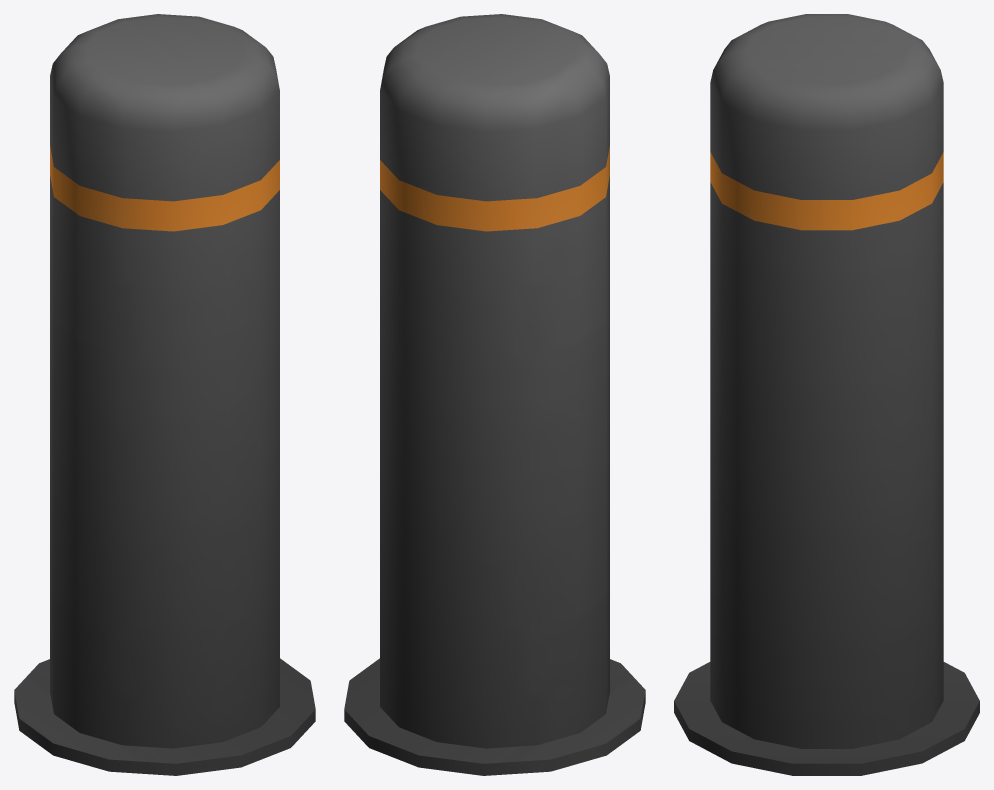
Rendered from bollard.glb.
The picture shows the model from 3 angles, left to right: view 1: azimuth 30°, elevation 25°; view 2: azimuth 150°, elevation 25°; view 3: azimuth 270°, elevation 25°; orthographic projection.
Parts seen in each view (by area): view 1: bollard; view 2: bollard; view 3: bollard.
Boxes of the visible parts, left/top/right/bottom form: bollard: left=14, top=14, right=315, bottom=775; bollard: left=344, top=14, right=645, bottom=775; bollard: left=674, top=14, right=979, bottom=775.
Bounding box in the file's own units: 0.6801 × 1.67 × 0.6976.
Materials: 1 (1 with a texture image).
